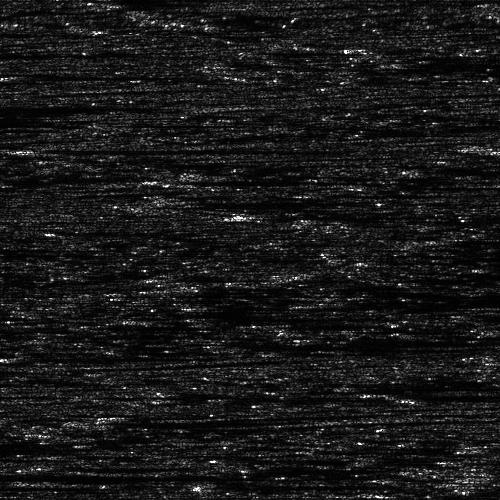rock: (106, 198, 231, 209), (408, 231, 481, 248), (219, 209, 312, 222), (147, 169, 200, 188), (66, 416, 129, 427), (364, 390, 417, 399), (467, 141, 500, 152), (440, 458, 493, 463), (455, 443, 466, 452)
shadow: (0, 468, 272, 479), (266, 209, 463, 222), (174, 169, 303, 188), (98, 416, 298, 427), (169, 198, 297, 209), (391, 390, 500, 399), (445, 231, 500, 248), (461, 443, 500, 452), (467, 458, 500, 463)
